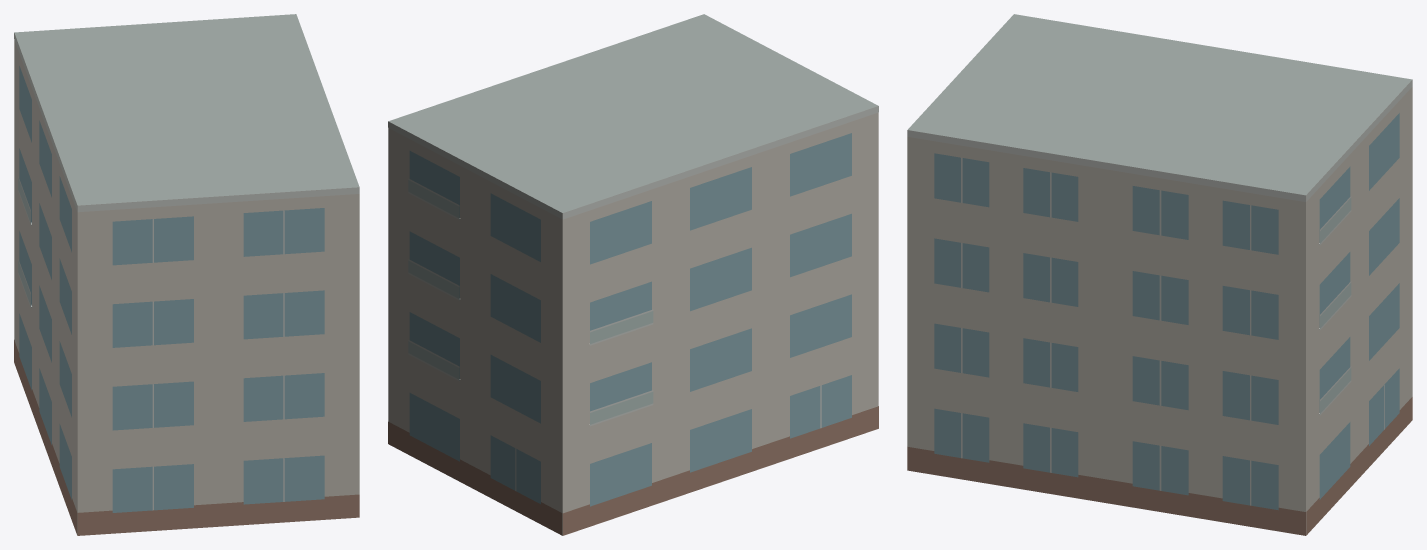
The model's file is residential-62e42f89-d956-47e4-8a06-9647dd200e9b.glb.
3 renders of one model, left to right at view 1: azimuth 30°, elevation 25°; view 2: azimuth 150°, elevation 25°; view 3: azimuth 270°, elevation 25°, orthographic. The views are drawn at different scales.
Parts seen in each view (by area): view 1: residential-62e42f89-d956-47e4-8a06-9647dd200e9b.tmp; view 2: residential-62e42f89-d956-47e4-8a06-9647dd200e9b.tmp; view 3: residential-62e42f89-d956-47e4-8a06-9647dd200e9b.tmp.
Part boxes in pixels (x1,y1,x2,y2): residential-62e42f89-d956-47e4-8a06-9647dd200e9b.tmp: (14,14,359,535); residential-62e42f89-d956-47e4-8a06-9647dd200e9b.tmp: (388,14,878,535); residential-62e42f89-d956-47e4-8a06-9647dd200e9b.tmp: (907,14,1412,535).
Size of the model in its own units: 13.95 by 12.2 by 16.42.
